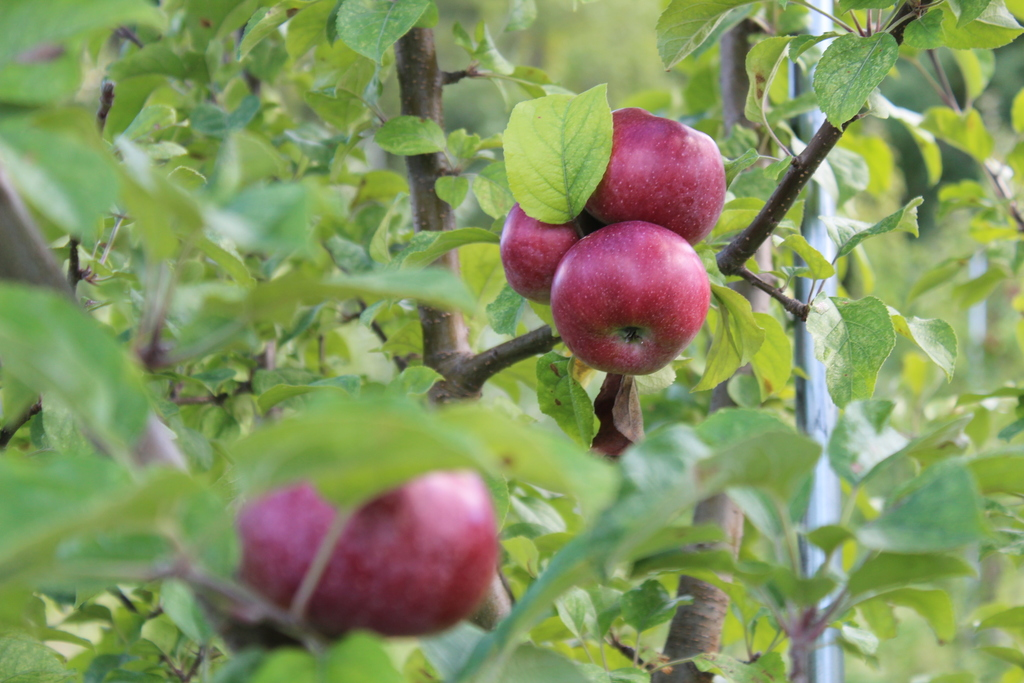Apple: (236, 463, 506, 637), (556, 212, 710, 385), (584, 105, 723, 243), (501, 196, 597, 304)
